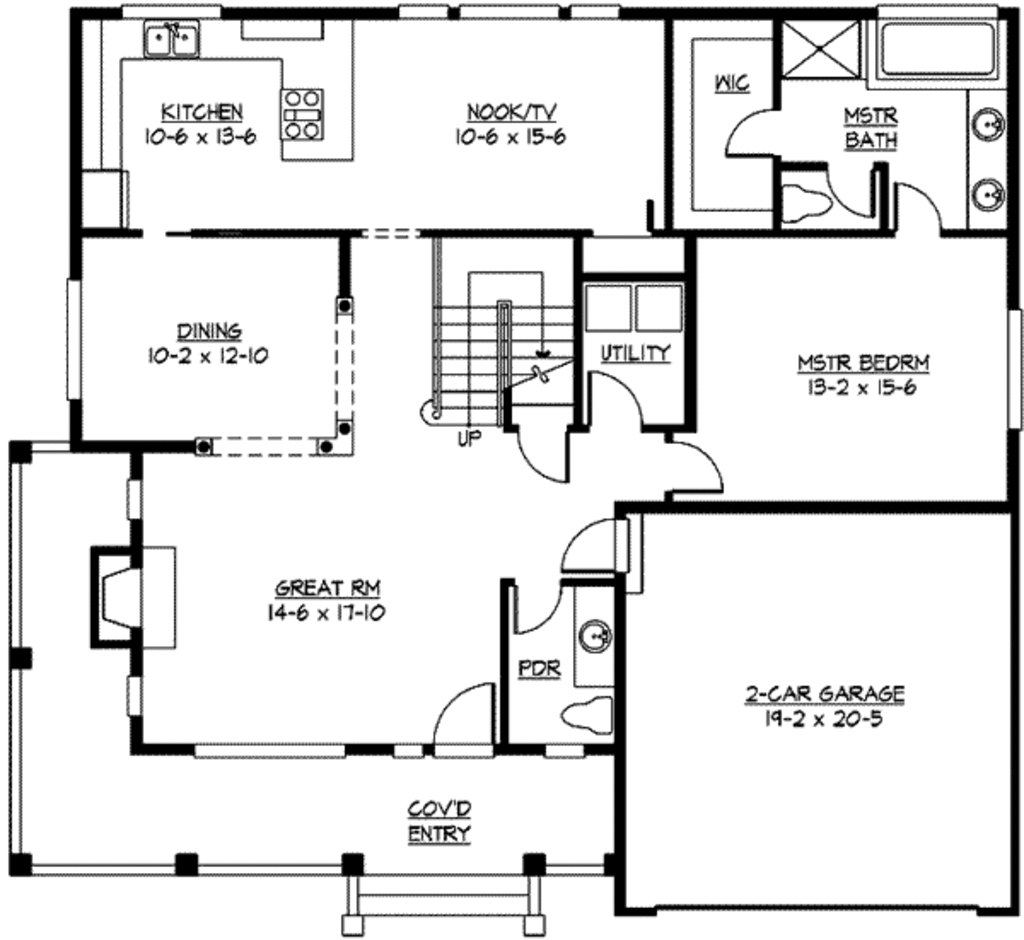door: (426, 672, 513, 757), (510, 415, 587, 484), (555, 518, 645, 575), (723, 95, 795, 165), (823, 157, 891, 230), (668, 426, 730, 498), (582, 362, 643, 431), (511, 578, 572, 646), (894, 173, 949, 237)
large_sink: (549, 685, 642, 744), (779, 173, 834, 226)
small_sink: (955, 88, 1010, 231), (575, 591, 627, 686)
stairs: (430, 233, 581, 427)
tub: (868, 11, 1007, 94)
twin_sink: (139, 17, 220, 65)
window: (390, 2, 626, 24), (191, 739, 356, 770), (63, 273, 90, 405)
